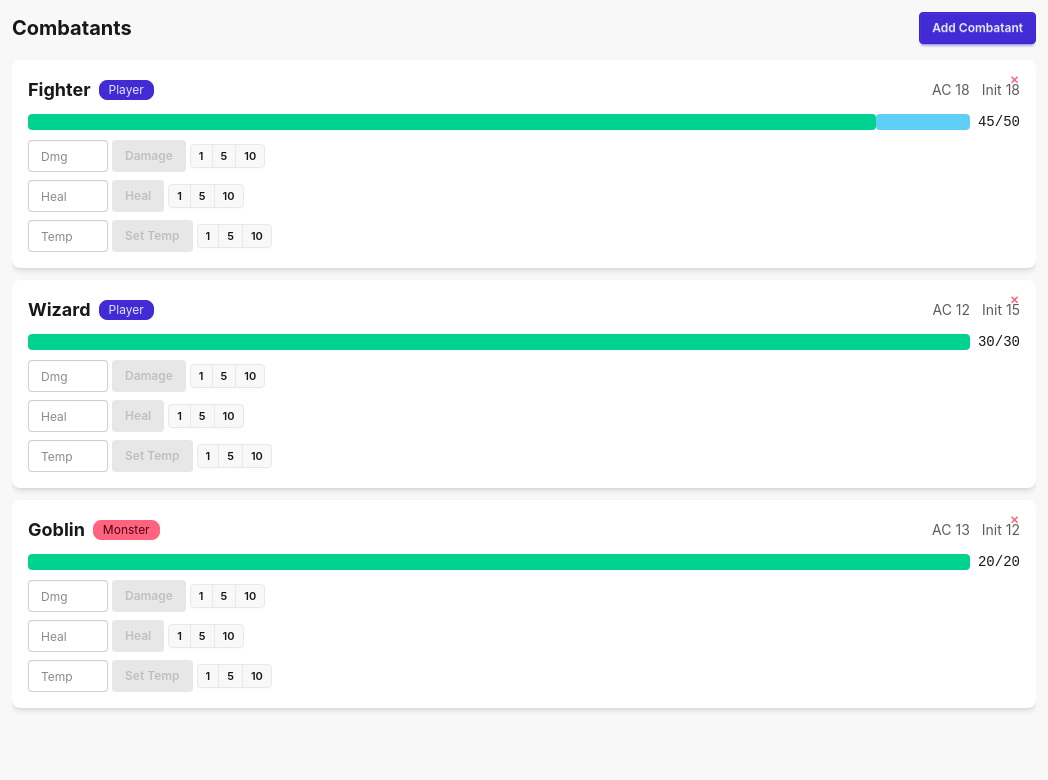
Scenario: EncounterHpPanel › error handling › shows error when remove combatant fails
Click the button with test id "remove-combatant-c1" at (1014, 520), box [1001,508,1028,532]
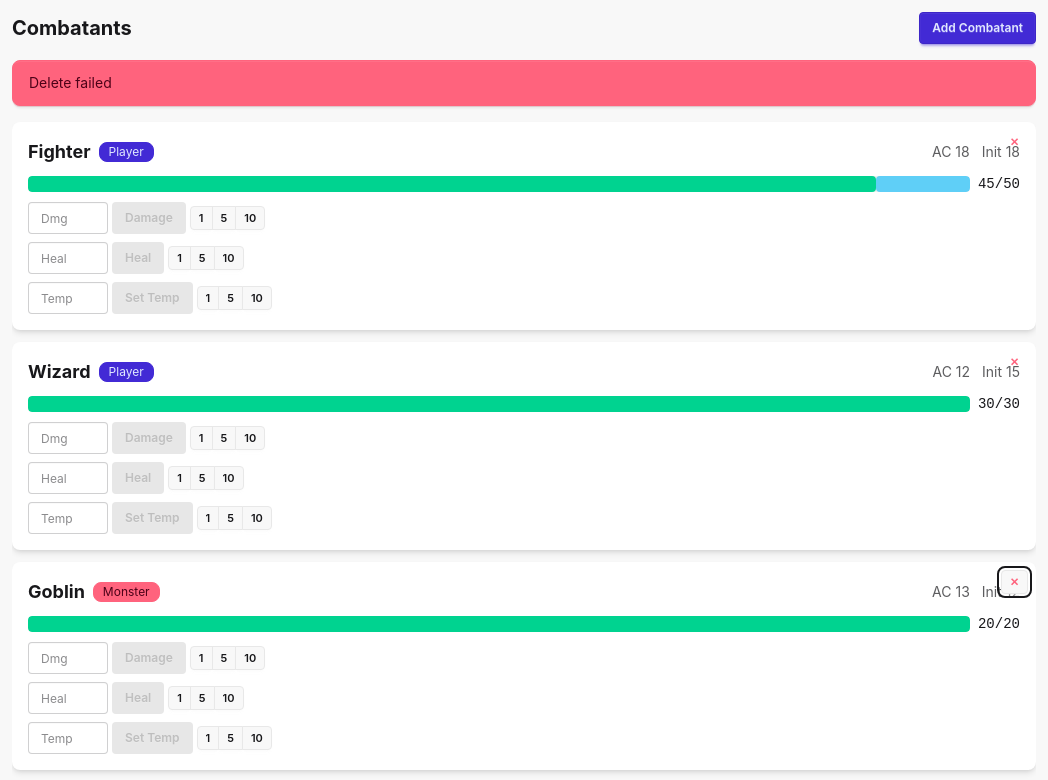
Now the element with test id "encounter-hp-panel-error" reads "Delete failed", box [29,74,112,91]
